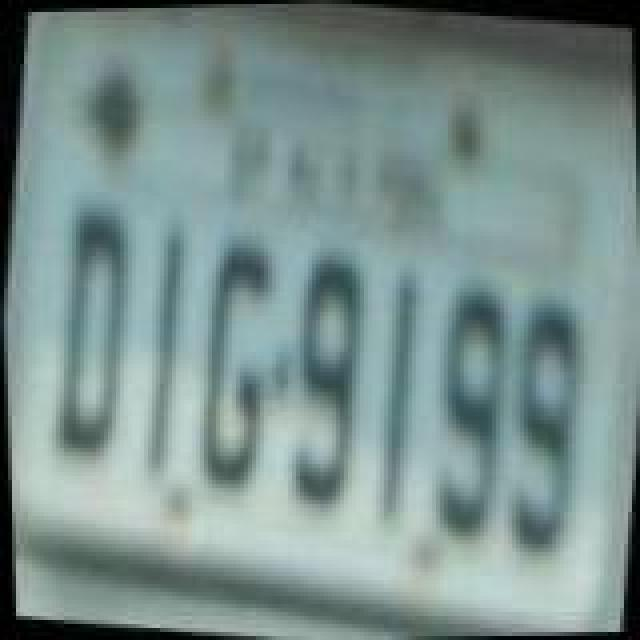1: (356, 258, 428, 538), (128, 210, 196, 482)
9: (412, 272, 520, 552), (488, 288, 596, 560), (272, 240, 376, 520)
D: (36, 198, 144, 474)
G: (184, 232, 288, 496)
